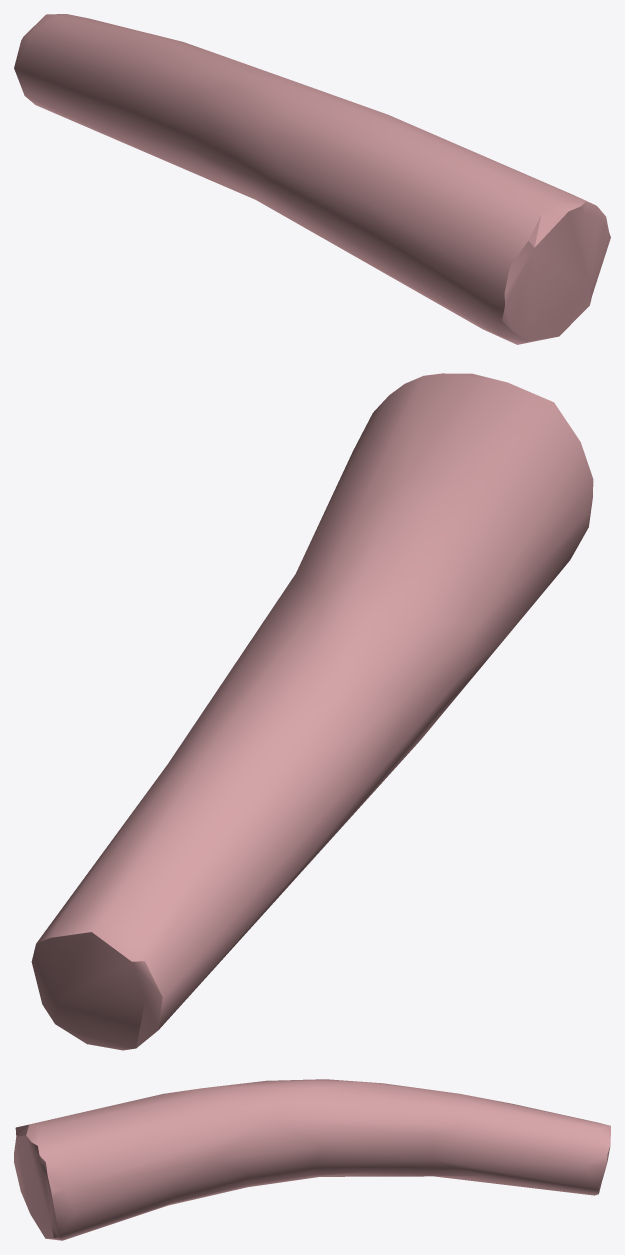
File: fma68213_fj2519.glb
3 renders of one model, top to bottom at view 1: azimuth 30°, elevation 25°; view 2: azimuth 150°, elevation 25°; view 3: azimuth 270°, elevation 25°, orthographic. The views are drawn at different scales.
Parts seen in each view (by area): view 1: FMA68213_FJ2519; view 2: FMA68213_FJ2519; view 3: FMA68213_FJ2519.
Boxes of the visible parts, x1,y1,x2,y2 form: FMA68213_FJ2519: [14, 14, 610, 344]; FMA68213_FJ2519: [31, 373, 593, 1050]; FMA68213_FJ2519: [14, 1079, 610, 1240].
Bounding box in the file's own units: 0.0041 × 0.00269 × 0.012.
